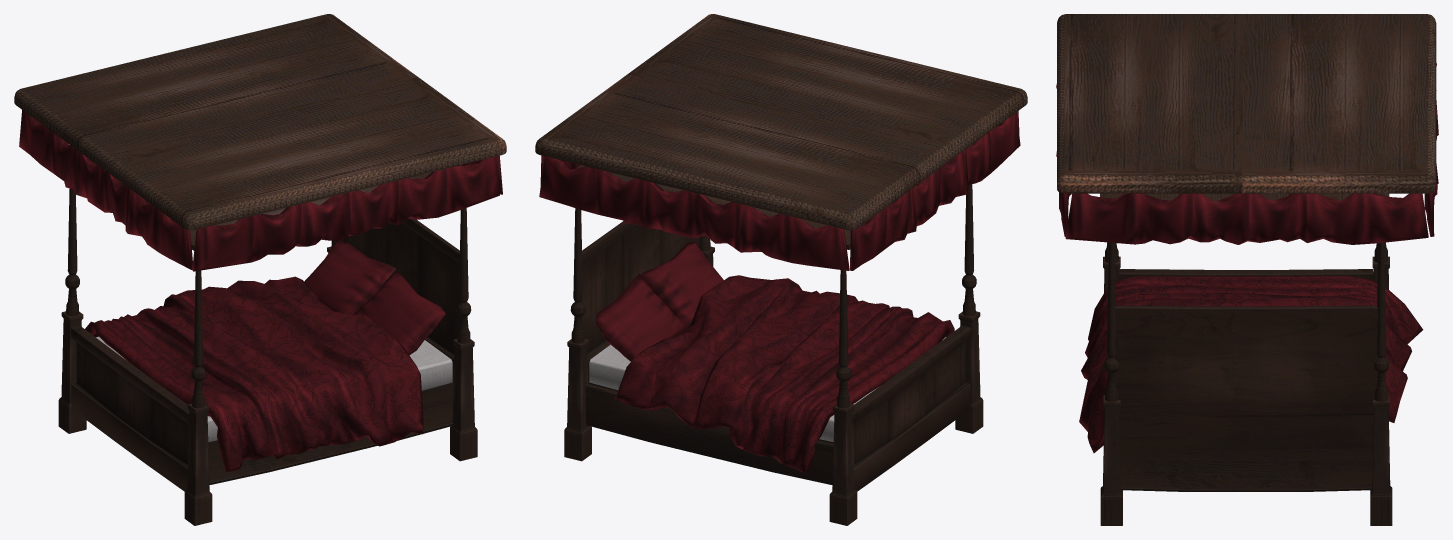
File: bed.DAE
3 renders of one model, left to right at view 1: azimuth 30°, elevation 25°; view 2: azimuth 150°, elevation 25°; view 3: azimuth 270°, elevation 25°, orthographic. The views are drawn at different scales.
Visible parts, largest first — view 1: bed_soft_furnishings, bed; view 2: bed_soft_furnishings, bed; view 3: bed_soft_furnishings, bed.
Part boxes in pixels (x1,y1,x2,y2): bed_soft_furnishings: (14,14,506,472); bed: (58,188,477,525); bed_soft_furnishings: (535,14,1027,472); bed: (564,184,983,525); bed_soft_furnishings: (1056,14,1438,453); bed: (1100,242,1392,525).
Size of the model in its own units: 1.82 by 1.75 by 1.78.
